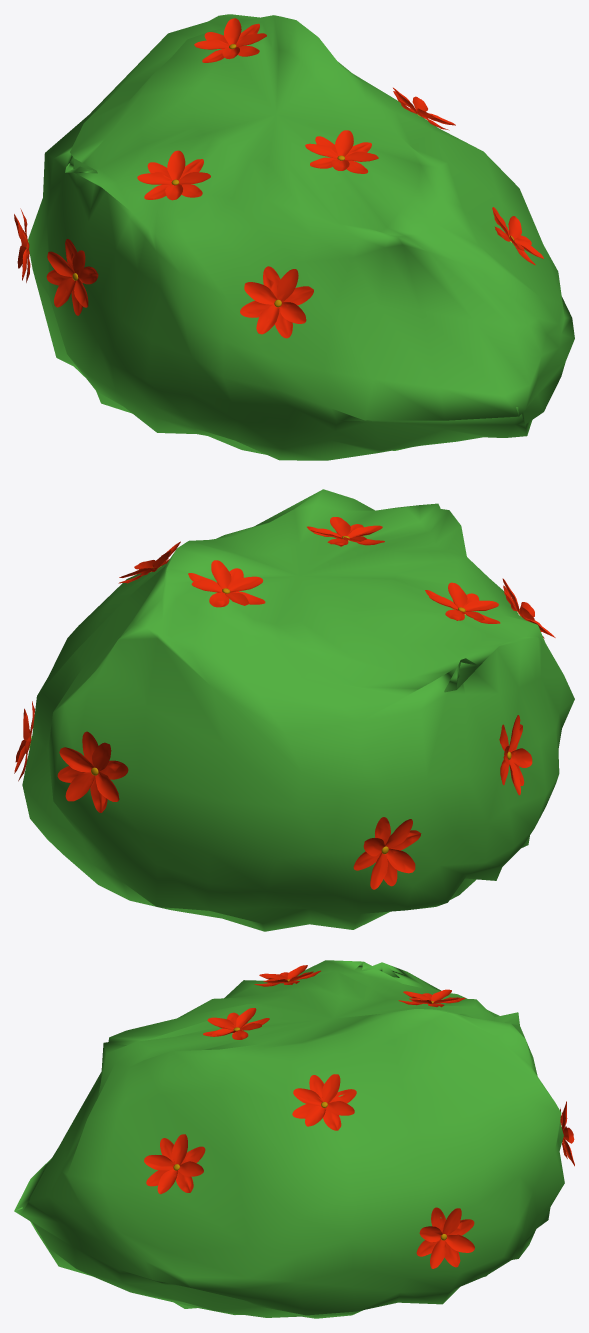
Rendered from arbusto_flores.fbx.
3 views of the same model, one above another, from view 1: azimuth 30°, elevation 25°; view 2: azimuth 150°, elevation 25°; view 3: azimuth 270°, elevation 25° (orthographic). The views are drawn at different scales.
Visible parts, largest first — view 1: Sphere.005, Plane.002, Plane.001, Plane.005, Plane.009, Plane.017, Plane.004, Plane.003, Plane.006; view 2: Sphere.005, Plane.008, Plane.006, Plane.017, Plane.001, Plane.005, Plane.009, Plane.002, Plane.003, Plane.007; view 3: Sphere.005, Plane.003, Plane.004, Plane.007, Plane.009, Plane.017, Plane.001.
Boxes of the visible parts, box(x1,y1,x2,y2) form: Sphere.005: box(28, 14, 574, 460); Plane.002: box(240, 266, 313, 338); Plane.001: box(137, 150, 210, 200); Plane.005: box(46, 239, 98, 315); Plane.009: box(305, 130, 378, 173); Plane.017: box(194, 18, 266, 62); Plane.004: box(492, 207, 543, 265); Plane.003: box(393, 87, 455, 130); Plane.006: box(14, 208, 30, 282); Sphere.005: box(22, 489, 574, 931); Plane.008: box(57, 731, 128, 812); Plane.006: box(353, 817, 421, 889); Plane.017: box(188, 560, 265, 607); Plane.001: box(425, 582, 500, 623); Plane.005: box(499, 715, 532, 795); Plane.009: box(307, 517, 384, 546); Plane.002: box(502, 578, 555, 638); Plane.003: box(118, 541, 180, 583); Plane.007: box(14, 701, 34, 781); Sphere.005: box(14, 960, 564, 1318); Plane.003: box(292, 1074, 356, 1130); Plane.004: box(144, 1134, 205, 1194); Plane.007: box(416, 1207, 474, 1268); Plane.009: box(203, 1008, 269, 1039); Plane.017: box(398, 989, 465, 1007); Plane.001: box(254, 965, 320, 986).
Size of the model in its own units: 159 by 105 by 195.
